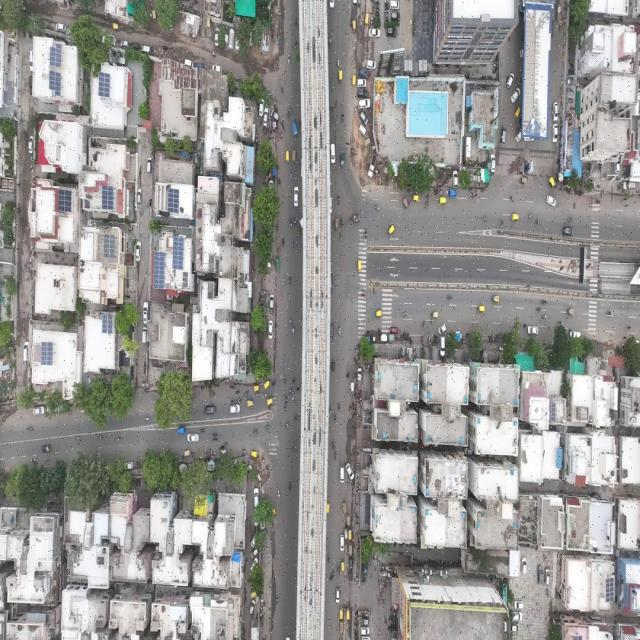3W: (545, 176, 557, 191), (511, 210, 521, 227), (390, 324, 402, 336), (41, 444, 51, 458), (475, 304, 486, 316), (519, 176, 531, 187), (565, 305, 575, 318), (513, 105, 522, 119), (330, 357, 337, 375), (386, 224, 396, 236), (491, 294, 503, 304), (343, 525, 349, 544), (112, 21, 122, 32), (250, 448, 259, 460), (357, 256, 363, 273), (374, 309, 384, 319), (402, 197, 409, 211), (341, 501, 348, 515), (351, 18, 357, 34), (264, 378, 271, 391), (291, 149, 297, 164), (345, 606, 351, 621), (347, 570, 353, 585), (334, 216, 339, 233), (285, 150, 291, 164), (152, 9, 158, 23), (206, 17, 212, 31), (348, 556, 354, 570), (430, 311, 439, 320), (411, 194, 419, 204), (346, 514, 352, 527), (184, 448, 191, 459), (338, 70, 343, 85), (351, 72, 356, 87), (211, 432, 219, 441), (340, 561, 346, 573), (347, 529, 353, 541), (247, 399, 254, 409), (267, 397, 274, 407), (439, 196, 446, 206), (339, 607, 344, 621), (339, 621, 344, 634), (254, 384, 261, 393), (365, 12, 369, 27), (347, 545, 353, 555), (327, 501, 331, 515), (272, 507, 276, 519)
Cars: (510, 84, 523, 105), (360, 561, 370, 587), (551, 98, 560, 123), (345, 460, 355, 482), (526, 323, 540, 338), (134, 241, 143, 264), (551, 123, 560, 146), (252, 486, 261, 508), (438, 337, 447, 359), (562, 225, 576, 239), (568, 327, 581, 342), (292, 184, 300, 208), (499, 125, 508, 146), (546, 191, 557, 208), (358, 96, 371, 110), (359, 111, 370, 127), (537, 563, 544, 588), (32, 405, 45, 418), (228, 27, 235, 51), (367, 27, 381, 39), (545, 565, 551, 592), (338, 464, 346, 484), (143, 300, 149, 326), (186, 432, 200, 443), (141, 325, 148, 347), (452, 169, 459, 191), (437, 322, 448, 336), (338, 532, 345, 554), (28, 49, 34, 74), (146, 155, 153, 176), (115, 55, 127, 67), (214, 26, 220, 49), (507, 70, 514, 89), (205, 404, 217, 415), (330, 142, 336, 164), (28, 134, 34, 156), (386, 26, 398, 37), (521, 556, 527, 578), (512, 610, 523, 622), (249, 557, 259, 570), (56, 21, 66, 34), (359, 67, 369, 80), (136, 189, 143, 207), (23, 341, 29, 362), (263, 106, 269, 127), (229, 404, 241, 414), (259, 98, 265, 118), (357, 88, 369, 98), (335, 586, 341, 606), (358, 125, 367, 138), (330, 321, 335, 344), (268, 320, 274, 339), (249, 599, 256, 615), (183, 58, 194, 68), (270, 110, 280, 121), (390, 12, 401, 22), (390, 1, 401, 11), (367, 58, 376, 70), (340, 151, 346, 169), (124, 460, 134, 470), (269, 293, 274, 313), (120, 39, 130, 49), (491, 153, 496, 173), (514, 601, 524, 611), (356, 78, 367, 87), (360, 616, 369, 627), (250, 548, 259, 558), (141, 45, 151, 54), (212, 64, 222, 73), (362, 625, 372, 634), (28, 76, 32, 98), (131, 41, 140, 50), (194, 62, 204, 69), (275, 257, 279, 273), (512, 624, 519, 632)
LCV: (367, 153, 377, 180), (292, 121, 298, 138), (351, 215, 361, 225), (17, 206, 22, 217), (29, 164, 34, 174), (17, 182, 23, 190)
M2W: (26, 422, 36, 435), (533, 216, 543, 229), (526, 209, 534, 225), (113, 432, 122, 445), (336, 321, 343, 337), (142, 414, 151, 426), (419, 320, 428, 332), (360, 289, 367, 302), (328, 571, 335, 584), (539, 298, 548, 308), (470, 189, 477, 201), (355, 318, 363, 328), (595, 197, 602, 208), (279, 116, 285, 128), (535, 305, 544, 313), (419, 334, 425, 346), (330, 437, 336, 449), (326, 553, 332, 565), (546, 323, 553, 333), (605, 308, 612, 318), (464, 330, 471, 340), (565, 217, 575, 224), (286, 53, 292, 64), (427, 335, 433, 346), (353, 343, 358, 356), (498, 218, 506, 226), (74, 434, 81, 443), (96, 433, 103, 442), (541, 312, 550, 319), (294, 16, 299, 28), (280, 84, 285, 96), (353, 355, 358, 367), (337, 401, 343, 411), (333, 415, 338, 427), (289, 169, 294, 180), (283, 394, 289, 403), (211, 50, 217, 59), (229, 384, 235, 393), (374, 204, 380, 213), (447, 294, 456, 300), (357, 339, 361, 352), (199, 386, 206, 393), (220, 449, 227, 456), (337, 194, 341, 206), (340, 216, 344, 228), (333, 567, 337, 579), (291, 441, 295, 452), (288, 277, 292, 288), (282, 238, 286, 249), (31, 457, 37, 464), (284, 422, 290, 429), (210, 451, 217, 457), (482, 216, 489, 222), (401, 311, 408, 317), (277, 490, 281, 500), (289, 385, 293, 395), (278, 177, 282, 187), (328, 37, 332, 47), (337, 57, 341, 67), (364, 229, 368, 239), (337, 194, 341, 204), (334, 452, 338, 462), (253, 429, 259, 435), (293, 415, 299, 421), (296, 385, 300, 394), (276, 593, 279, 605), (289, 315, 292, 327), (291, 240, 294, 252), (290, 217, 293, 229), (294, 40, 298, 49), (289, 106, 293, 115), (282, 124, 286, 133), (262, 392, 267, 399), (197, 455, 202, 462), (345, 372, 350, 379), (291, 395, 294, 406), (294, 216, 297, 227), (342, 112, 345, 123), (242, 448, 246, 456), (262, 456, 266, 464), (135, 458, 138, 468), (230, 398, 236, 403), (237, 398, 243, 403), (244, 390, 249, 396), (265, 425, 270, 431), (283, 403, 286, 413), (283, 375, 286, 385), (277, 223, 280, 233), (290, 169, 293, 179), (286, 110, 289, 120), (330, 106, 333, 116), (272, 380, 276, 387), (292, 378, 295, 387), (292, 326, 295, 335), (297, 228, 300, 237), (235, 390, 240, 395), (242, 395, 247, 400), (200, 429, 206, 433), (289, 480, 291, 492)
